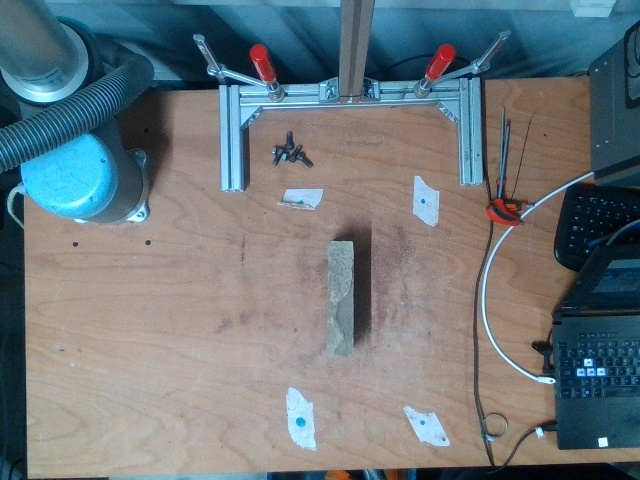brick-side: (329, 241, 354, 356)
